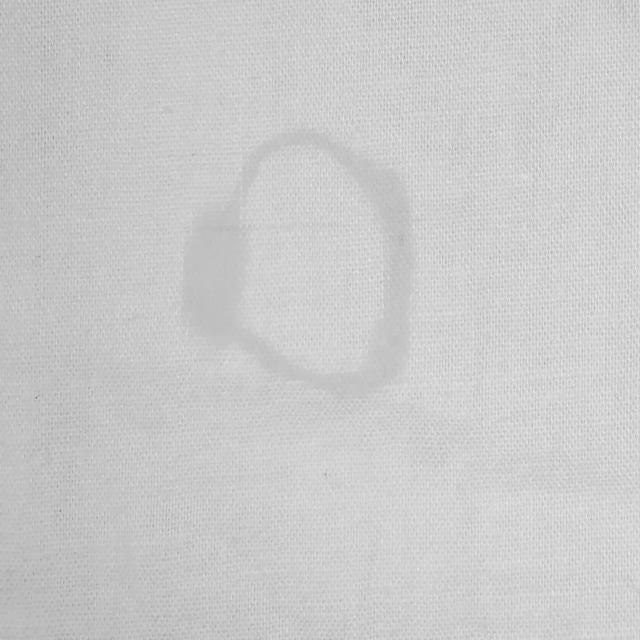stain: (179, 112, 433, 403)
